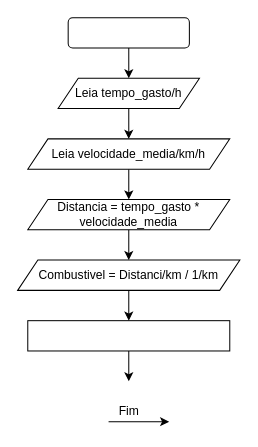
Some shapes in this 258 by 447 pixel diagram are drawn without their labels. Here are the shapes that lost their labels. From the top down, the box of each, then its label:
(67, 17, 189, 48): Inicio
(27, 320, 230, 351): Apresenta Combustivel/L
